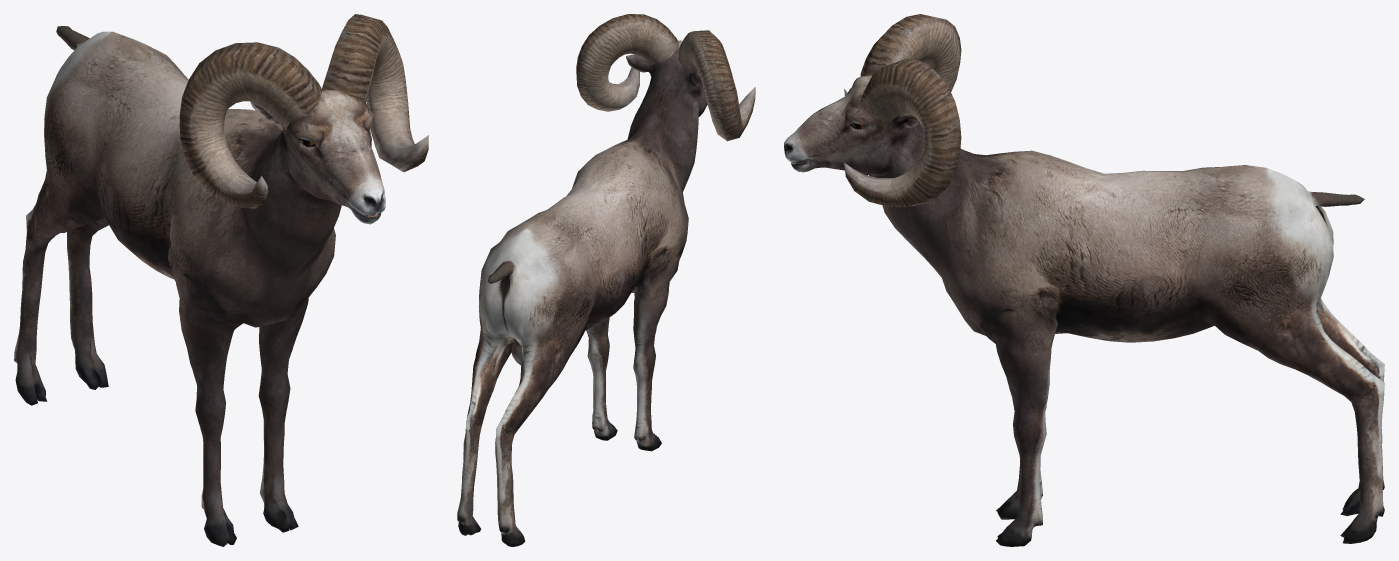
File: bighorn__carneiro_3d_model_free.glb
3 renders of one model, left to right at view 1: azimuth 30°, elevation 25°; view 2: azimuth 150°, elevation 25°; view 3: azimuth 270°, elevation 25°, orthographic. The views are drawn at different scales.
Parts seen in each view (by area): view 1: sm_4_0_0_3, sm_2_0_0_1, sm_1_0_1_0; view 2: sm_4_0_0_3, sm_2_0_0_1, sm_1_0_1_0; view 3: sm_4_0_0_3, sm_2_0_0_1, sm_1_0_1_0.
Boxes of the visible parts, bbox=[...] form: sm_4_0_0_3: bbox=[14, 26, 341, 546]; sm_2_0_0_1: bbox=[179, 14, 428, 208]; sm_1_0_1_0: bbox=[250, 89, 385, 224]; sm_4_0_0_3: bbox=[457, 91, 698, 546]; sm_2_0_0_1: bbox=[576, 14, 755, 141]; sm_1_0_1_0: bbox=[626, 40, 707, 116]; sm_4_0_0_3: bbox=[876, 131, 1384, 546]; sm_2_0_0_1: bbox=[844, 14, 961, 207]; sm_1_0_1_0: bbox=[784, 75, 922, 177].
Bounding box in the file's own units: 0.6125 × 1.43 × 1.59.
Materials: 4 (4 with a texture image).
